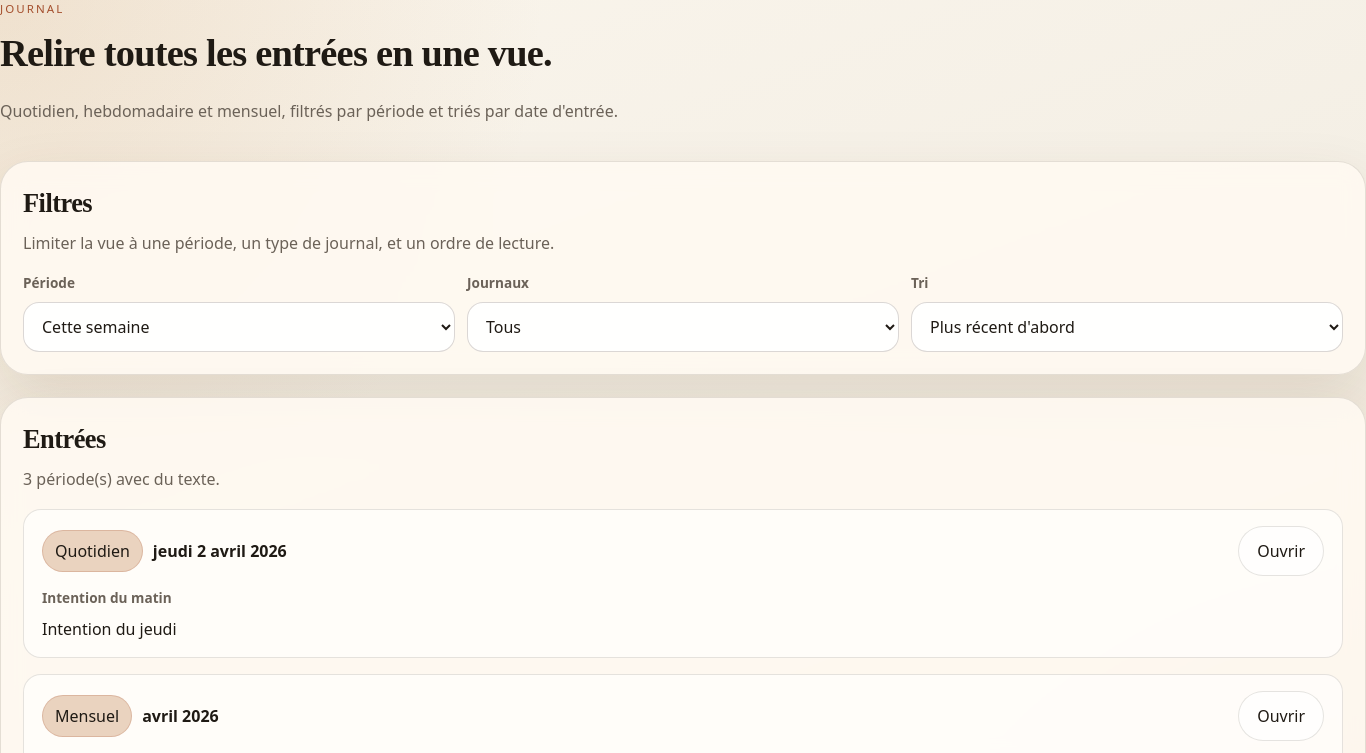
Test: JournalPage › asks for both custom dates instead of showing another period's notes
The width and height of the screenshot is (1366, 753).
Expected: the text "Intention du jeudi" is shown, [42, 618, 176, 640]
Select "Dates personnalisées" in the dropdown labelled "Période". click: (239, 327)
box: [23, 302, 455, 352]
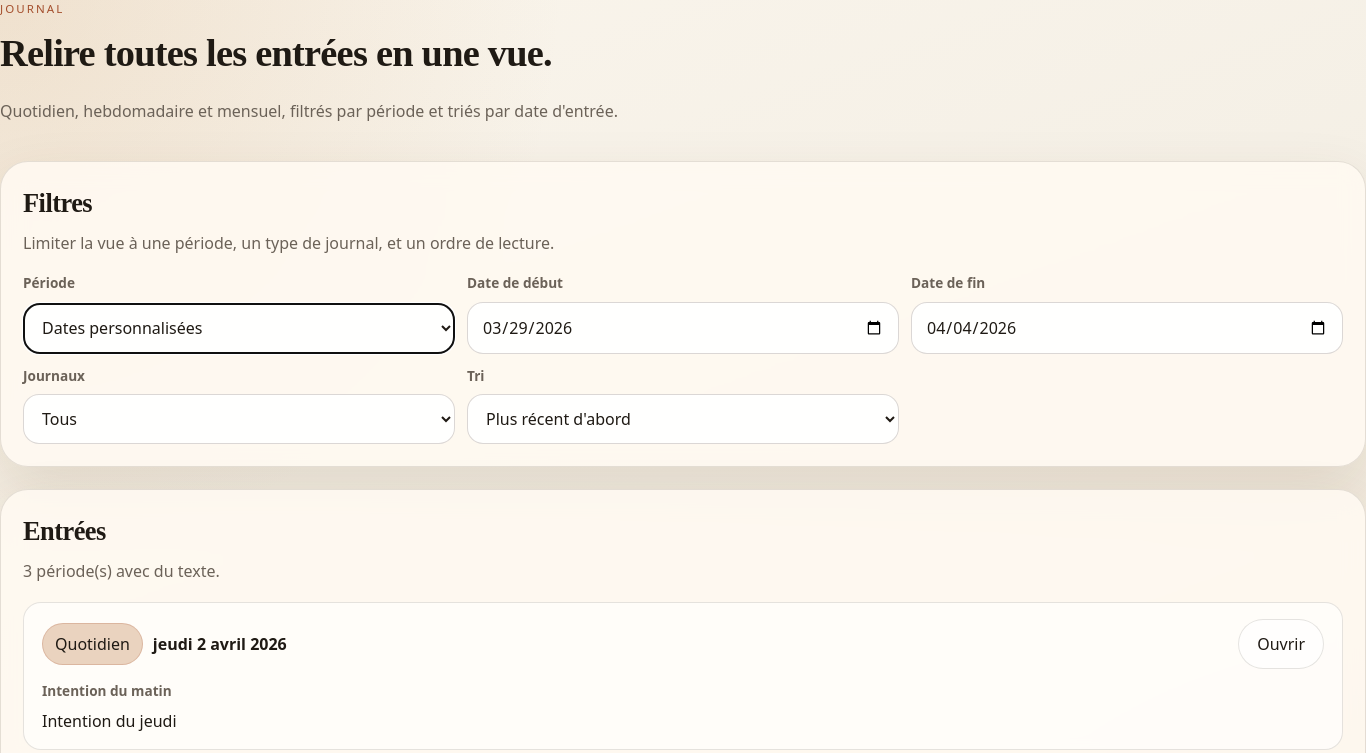
Clear the date field labelled "Date de début". click: (683, 328)
box: [467, 302, 899, 354]
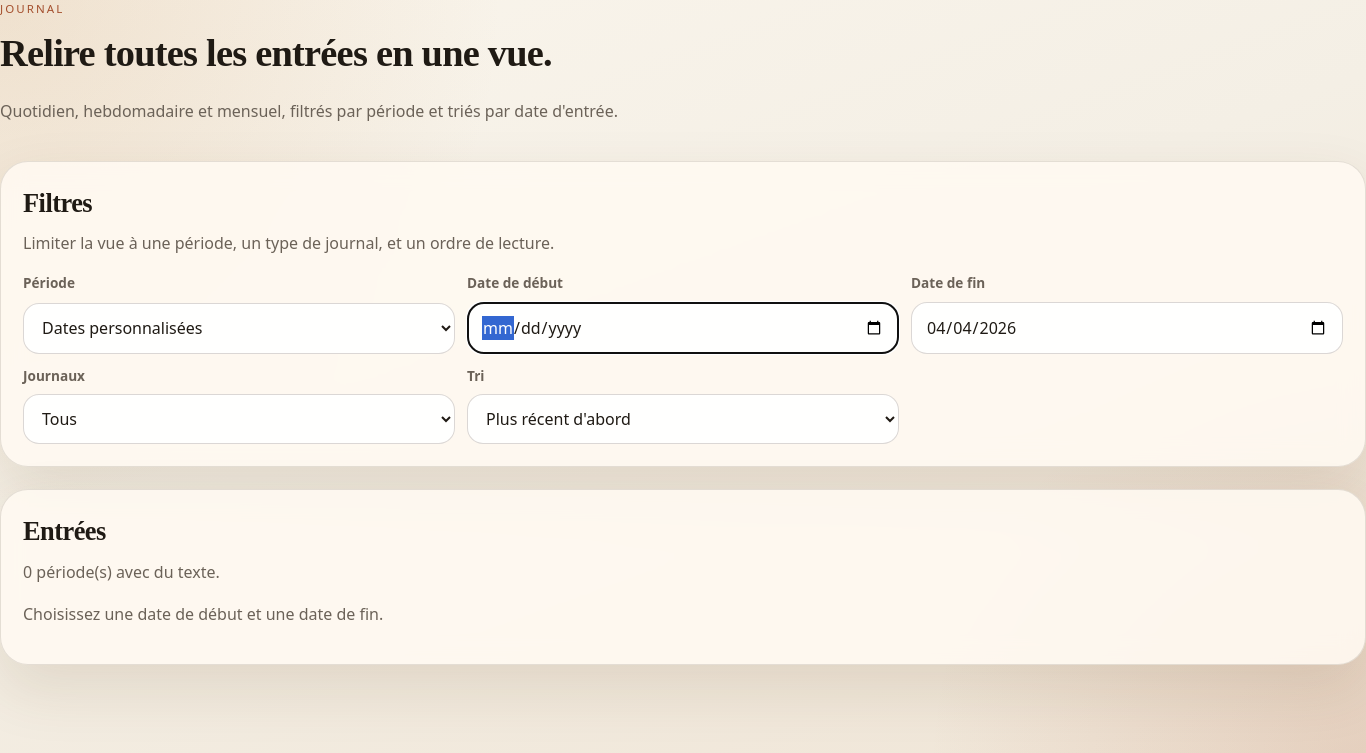
Expected: the text "Choisissez une date de début et une date de fin." is shown, [23, 603, 383, 625]
Expected: the text "Intention du jeudi" is gone
